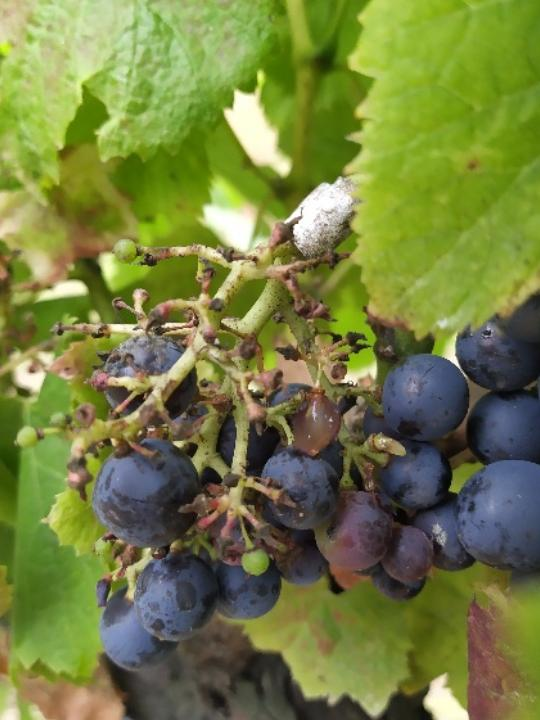grape: (13, 237, 432, 672)
